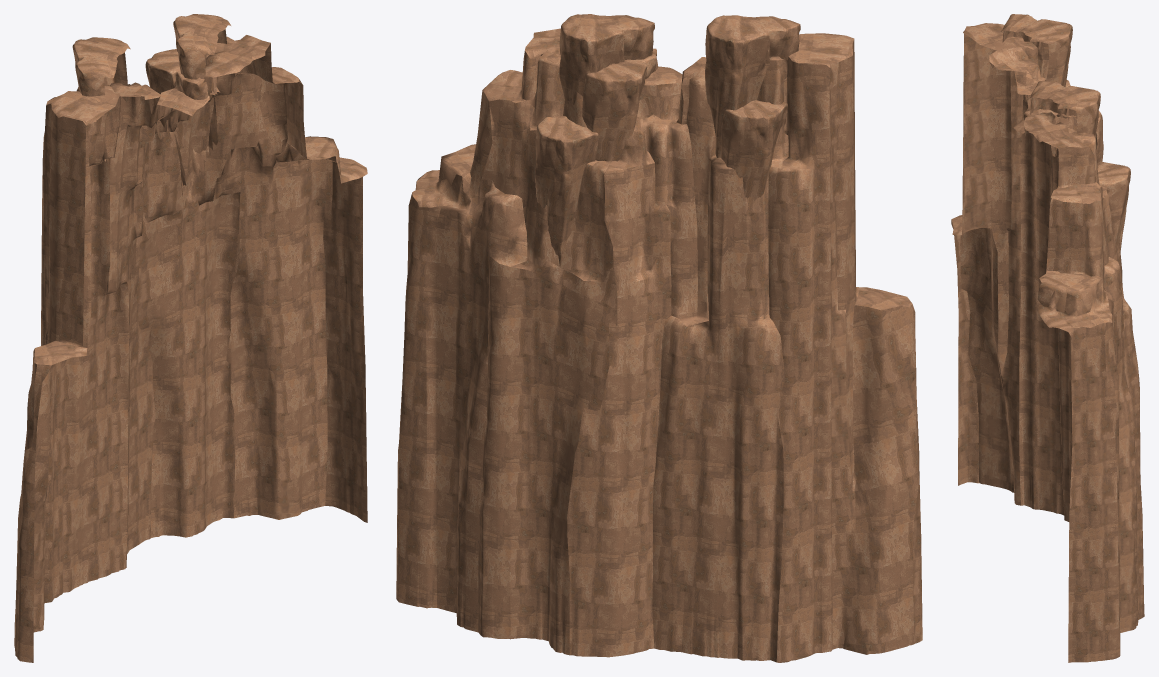
File: Ob_RockCliff00.fbx
The picture shows the model from 3 angles, left to right: view 1: azimuth 30°, elevation 25°; view 2: azimuth 150°, elevation 25°; view 3: azimuth 270°, elevation 25°; orthographic projection. The views are drawn at different scales.
Visible parts, largest first — view 1: Ob_RockCliff00; view 2: Ob_RockCliff00; view 3: Ob_RockCliff00.
Boxes of the visible parts, bbox=[...] form: Ob_RockCliff00: bbox=[14, 14, 367, 662]; Ob_RockCliff00: bbox=[396, 14, 922, 662]; Ob_RockCliff00: bbox=[951, 14, 1144, 662].
Bounding box in the file's own units: 105692 × 138937 × 47755.
